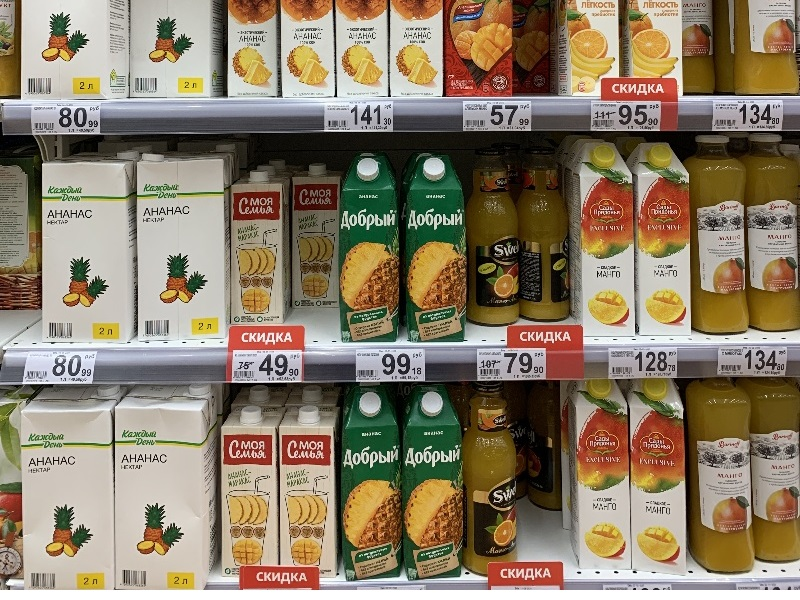juice: (321, 152, 416, 354), (557, 377, 647, 577), (395, 149, 475, 353), (567, 135, 642, 347), (620, 370, 693, 585), (333, 385, 413, 579), (399, 389, 471, 584), (629, 139, 696, 344)
